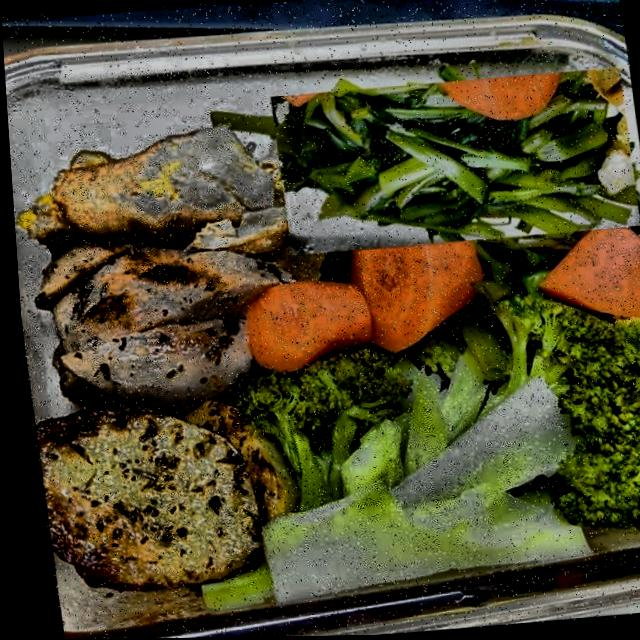Food: (267, 68, 640, 256)
